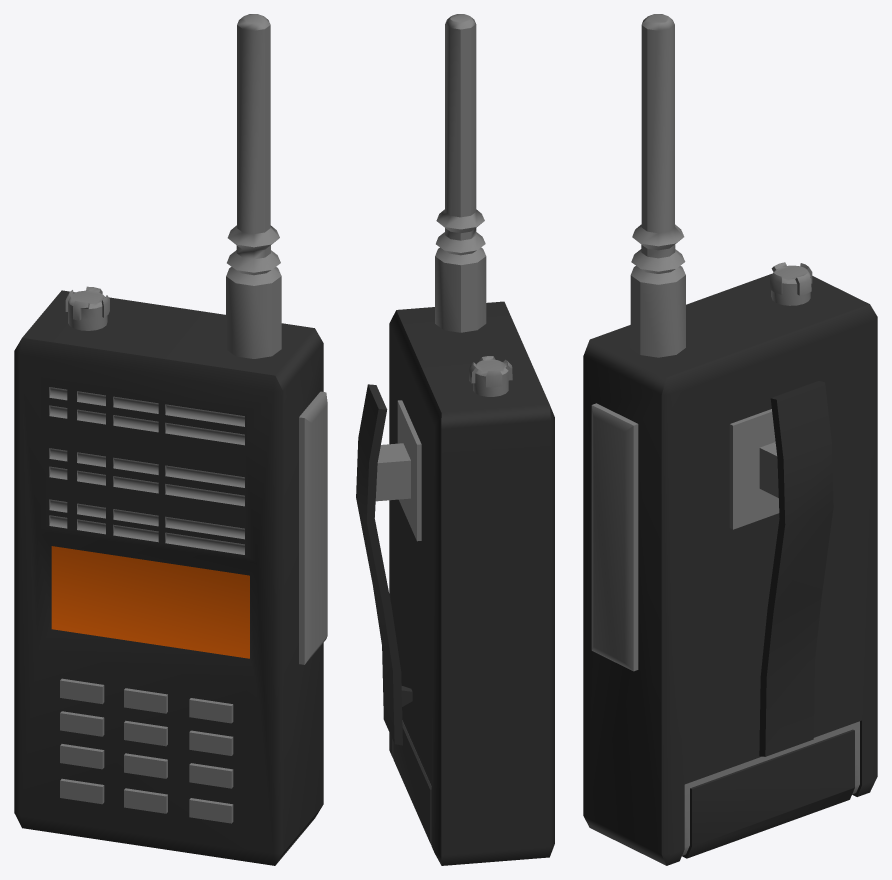
The model's file is handheld_transceiver__lowpoly.glb.
3 renders of one model, left to right at view 1: azimuth 30°, elevation 25°; view 2: azimuth 150°, elevation 25°; view 3: azimuth 270°, elevation 25°, orthographic. The views are drawn at different scales.
Parts seen in each view (by area): view 1: Cube; view 2: Cube; view 3: Cube.
Part boxes in pixels (x1,y1,x2,y2): Cube: [14, 14, 327, 865]; Cube: [356, 14, 554, 865]; Cube: [583, 14, 877, 865].
Bounding box in the file's own units: 1.08 × 3.52 × 1.15.
Materials: 1 (1 with a texture image).
